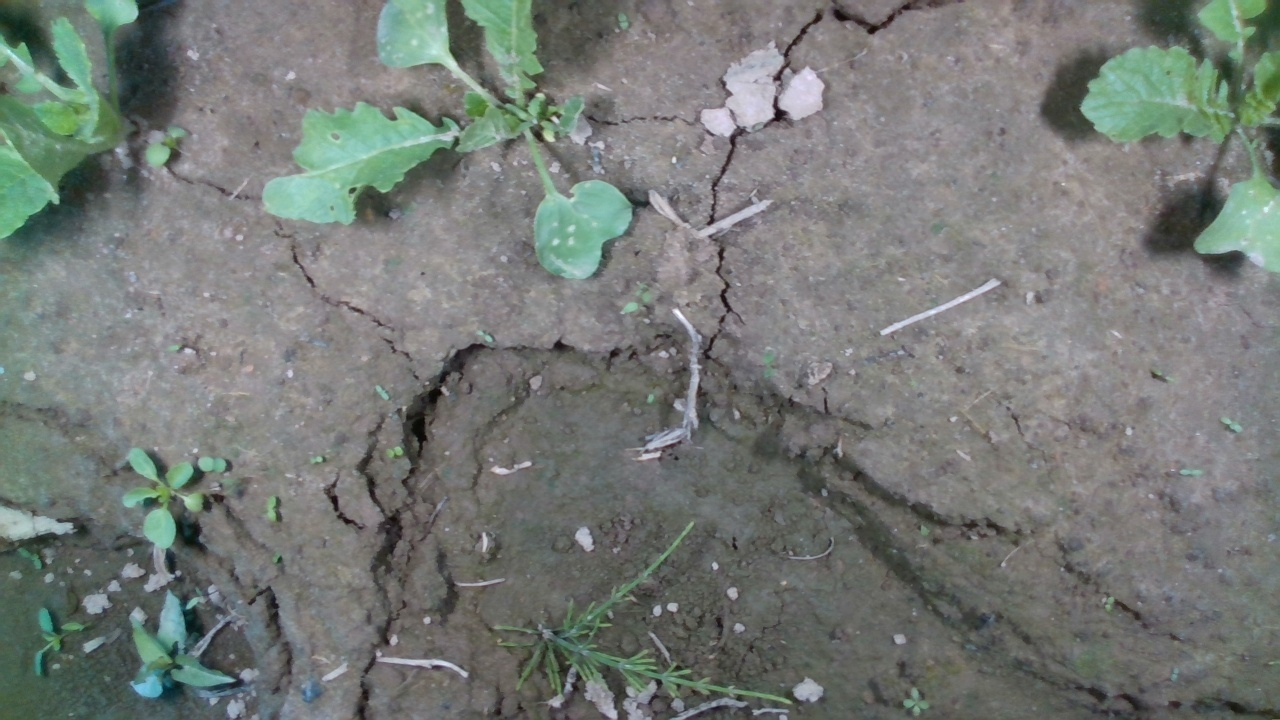weed: (616, 287, 657, 315), (902, 685, 930, 717), (196, 454, 229, 474), (1218, 415, 1245, 435), (372, 378, 392, 402), (263, 493, 278, 525), (474, 330, 496, 345), (382, 446, 404, 458), (1177, 467, 1205, 476), (617, 11, 630, 30), (307, 454, 324, 466)
